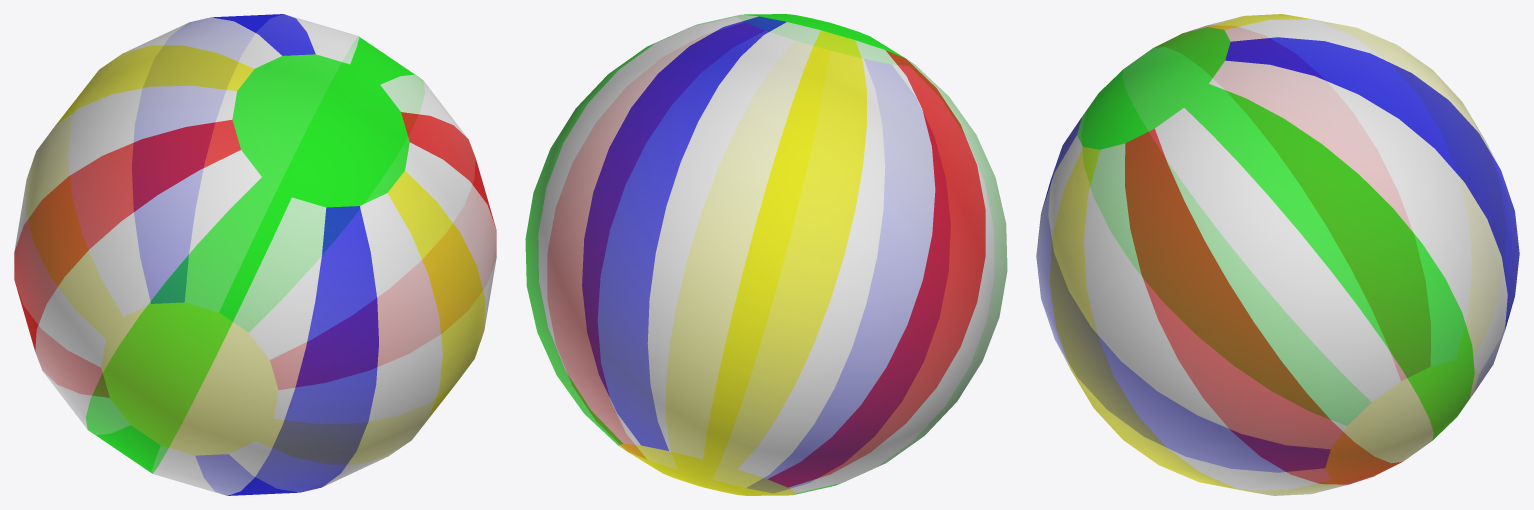
File: ball.obj
The picture shows the model from 3 angles, left to right: view 1: azimuth 30°, elevation 25°; view 2: azimuth 150°, elevation 25°; view 3: azimuth 270°, elevation 25°; orthographic projection.
Parts seen in each view (by area): view 1: balloon; view 2: balloon; view 3: balloon.
Boxes of the visible parts, box(x1,y1,x2,y2) form: balloon: box(14, 14, 496, 495); balloon: box(525, 14, 1007, 495); balloon: box(1036, 14, 1519, 495).
Size of the model in its own units: 0.4382 by 0.4382 by 0.4382.
